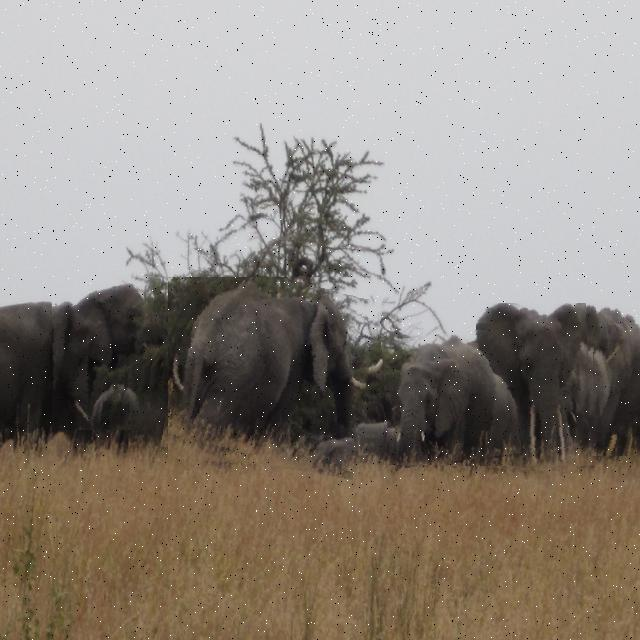elephant: (168, 277, 377, 473), (476, 303, 596, 473), (384, 330, 526, 466), (52, 273, 159, 430), (545, 289, 640, 456)
